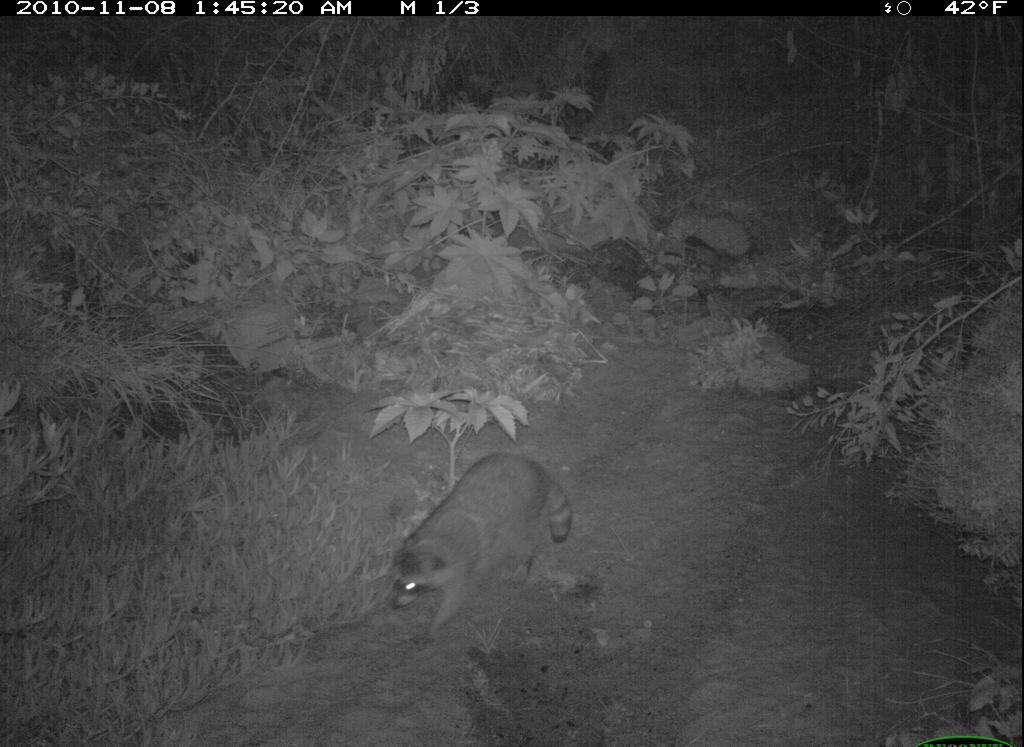raccoon: (390, 447, 578, 641)
